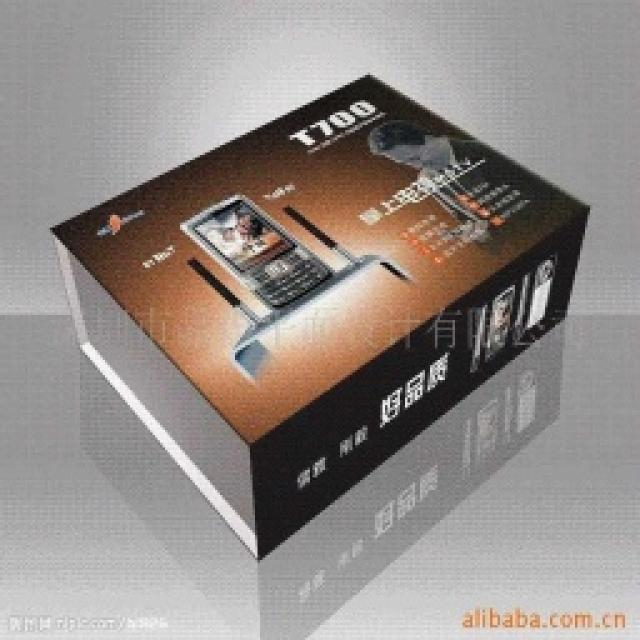box: (20, 70, 612, 564)
